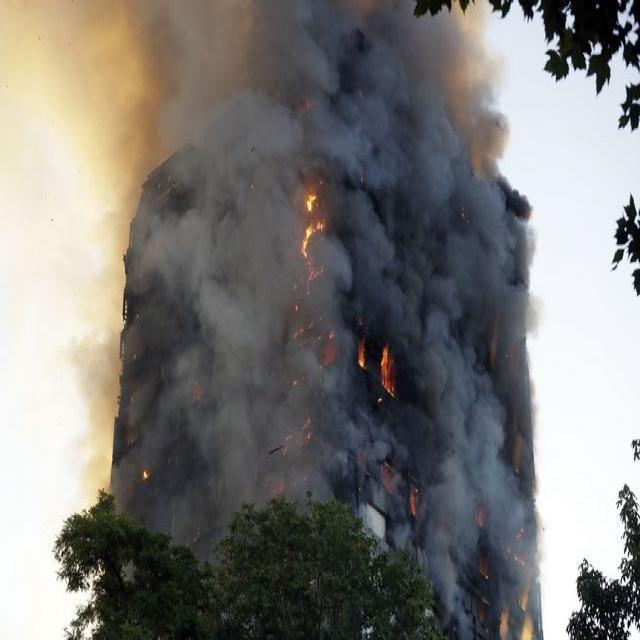Fire: (295, 174, 335, 287), (355, 344, 409, 408)
